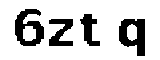6: (10, 5, 46, 51)
q: (116, 14, 149, 59)
t: (77, 12, 104, 50)
z: (45, 16, 78, 49)
